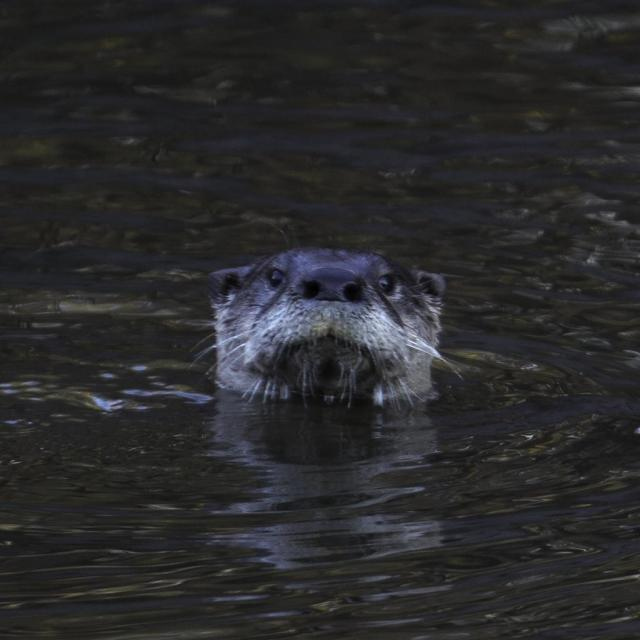otter: (211, 246, 445, 397)
